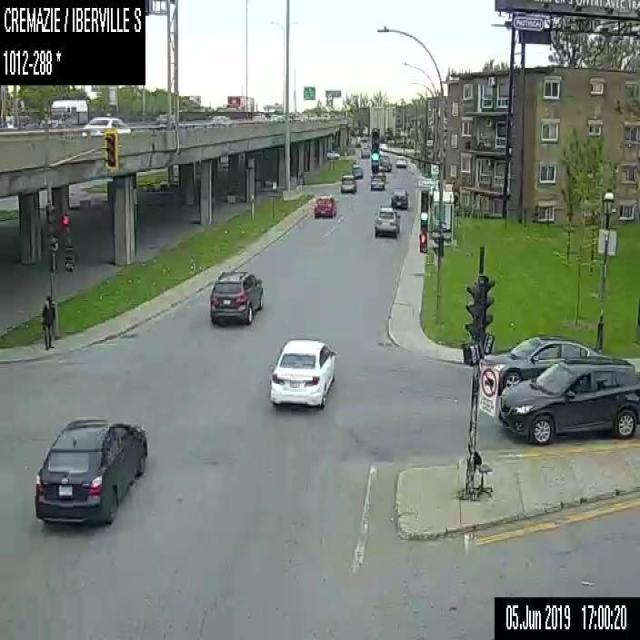pedestrian: (41, 296, 54, 351)
vehicle: (498, 356, 639, 446), (34, 417, 148, 523), (484, 332, 612, 392), (267, 337, 335, 407), (208, 266, 265, 322), (81, 110, 130, 134), (50, 99, 88, 125), (372, 205, 400, 236), (225, 95, 254, 117), (314, 193, 336, 217), (204, 115, 234, 129), (390, 189, 409, 209), (340, 173, 356, 192), (369, 174, 385, 190), (156, 112, 176, 124), (252, 110, 268, 122), (350, 163, 362, 178), (370, 169, 384, 181), (293, 112, 308, 121), (395, 155, 406, 167), (326, 149, 339, 159), (359, 145, 370, 156), (379, 160, 391, 169), (378, 153, 388, 162), (308, 112, 319, 120), (318, 112, 329, 120), (270, 113, 276, 120)
